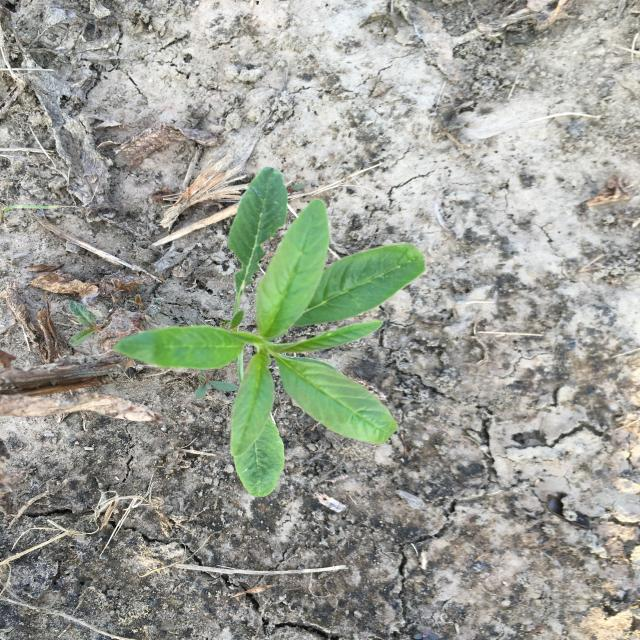Waterhemp: (112, 167, 426, 498), (69, 301, 103, 346)
